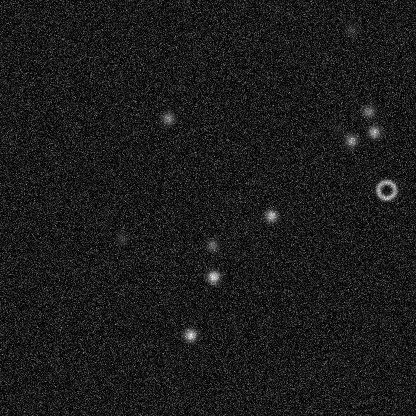Ring: (374, 177, 398, 201)
Spot: (343, 132, 359, 148), (330, 121, 346, 137), (160, 110, 176, 126), (360, 103, 376, 119), (263, 207, 279, 223), (182, 327, 198, 343), (366, 124, 382, 140), (343, 22, 359, 38), (204, 237, 220, 253), (113, 230, 129, 246), (205, 268, 221, 284)
